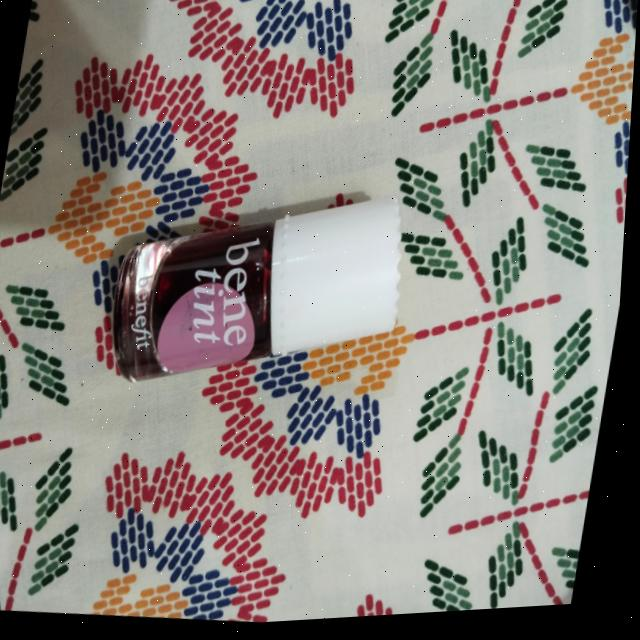Tint: (85, 132, 437, 445)
